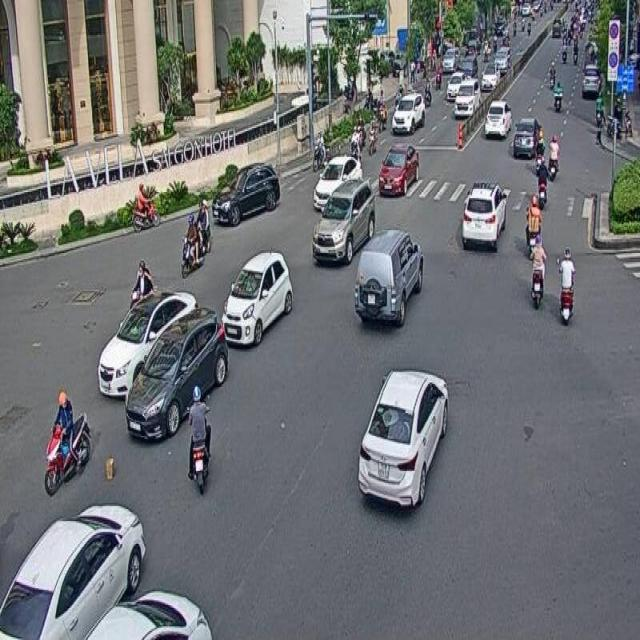car: (0, 503, 146, 640), (126, 306, 228, 439), (359, 369, 446, 504), (98, 290, 195, 396), (354, 228, 424, 328), (222, 252, 294, 344), (312, 178, 374, 264), (211, 160, 280, 226), (462, 182, 506, 242), (314, 156, 362, 210), (378, 142, 419, 194)
motorcycle: (44, 390, 90, 498), (188, 382, 211, 496), (180, 213, 205, 279), (528, 233, 546, 311), (132, 182, 160, 232), (558, 245, 574, 326), (524, 193, 542, 254), (537, 154, 547, 204)
